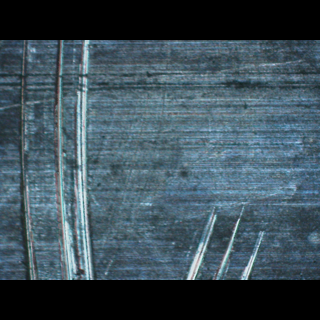d: (15, 39, 102, 278), (175, 198, 281, 279)
